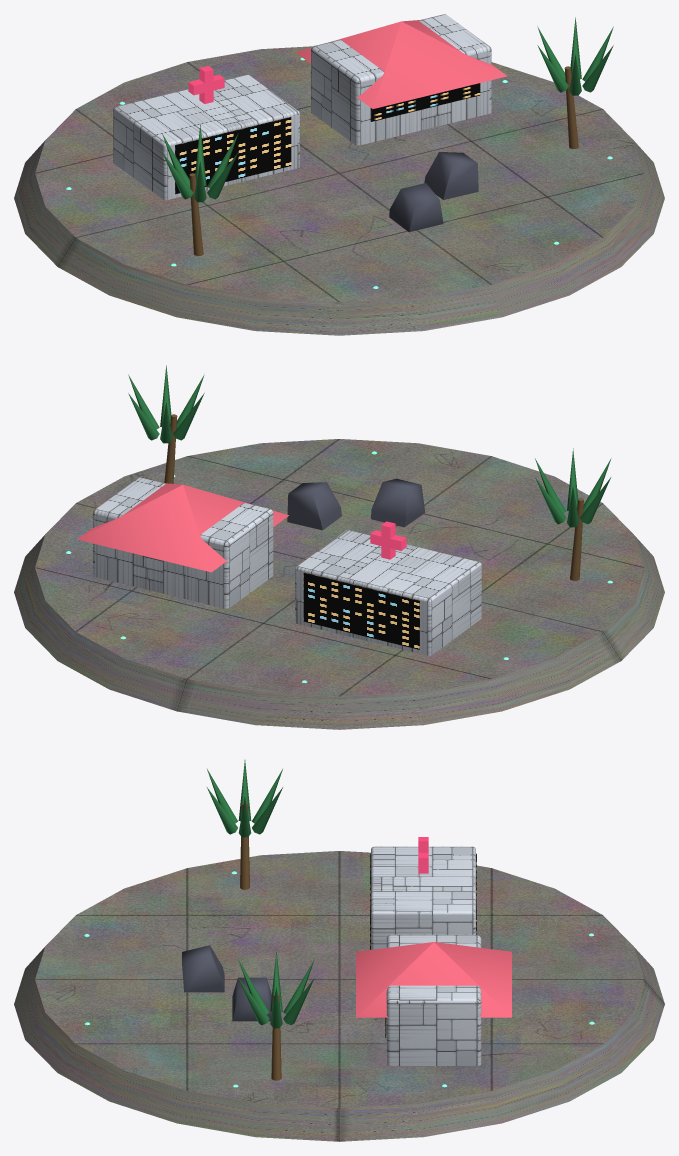
Rendered from welfare-T1.glb.
The picture shows the model from 3 angles, top to bottom: view 1: azimuth 30°, elevation 25°; view 2: azimuth 150°, elevation 25°; view 3: azimuth 270°, elevation 25°; orthographic projection.
Parts seen in each view (by area): view 1: object 1, object 11, object 16, object 17, object 12, grass, object 18, object 20, object 27; view 2: object 1, object 11, object 16, object 17, object 13, grass, object 20; view 3: object 1, object 11, object 16, object 17, grass.
Boxes of the visible parts, left/top/right/bottom form: object 1: left=14, top=46, right=664, bottom=335; object 11: left=113, top=74, right=299, bottom=200; object 16: left=311, top=14, right=491, bottom=145; object 17: left=295, top=20, right=507, bottom=108; object 12: left=175, top=117, right=291, bottom=194; grass: left=389, top=152, right=478, bottom=232; object 18: left=370, top=83, right=480, bottom=121; object 20: left=189, top=173, right=203, bottom=255; object 27: left=564, top=66, right=578, bottom=148; object 1: left=14, top=439, right=664, bottom=729; object 11: left=295, top=530, right=481, bottom=655; object 16: left=93, top=477, right=273, bottom=608; object 17: left=77, top=483, right=289, bottom=572; object 13: left=303, top=572, right=419, bottom=649; grass: left=287, top=478, right=424, bottom=530; object 20: left=570, top=498, right=583, bottom=580; object 1: left=14, top=851, right=664, bottom=1141; object 11: left=371, top=846, right=475, bottom=949; object 16: left=386, top=934, right=481, bottom=1065; object 17: left=356, top=942, right=511, bottom=1017; grass: left=182, top=945, right=271, bottom=1021.
Bounding box in the file's own units: 6.2 × 1.75 × 6.2.
Materials: 22 (5 with a texture image).
